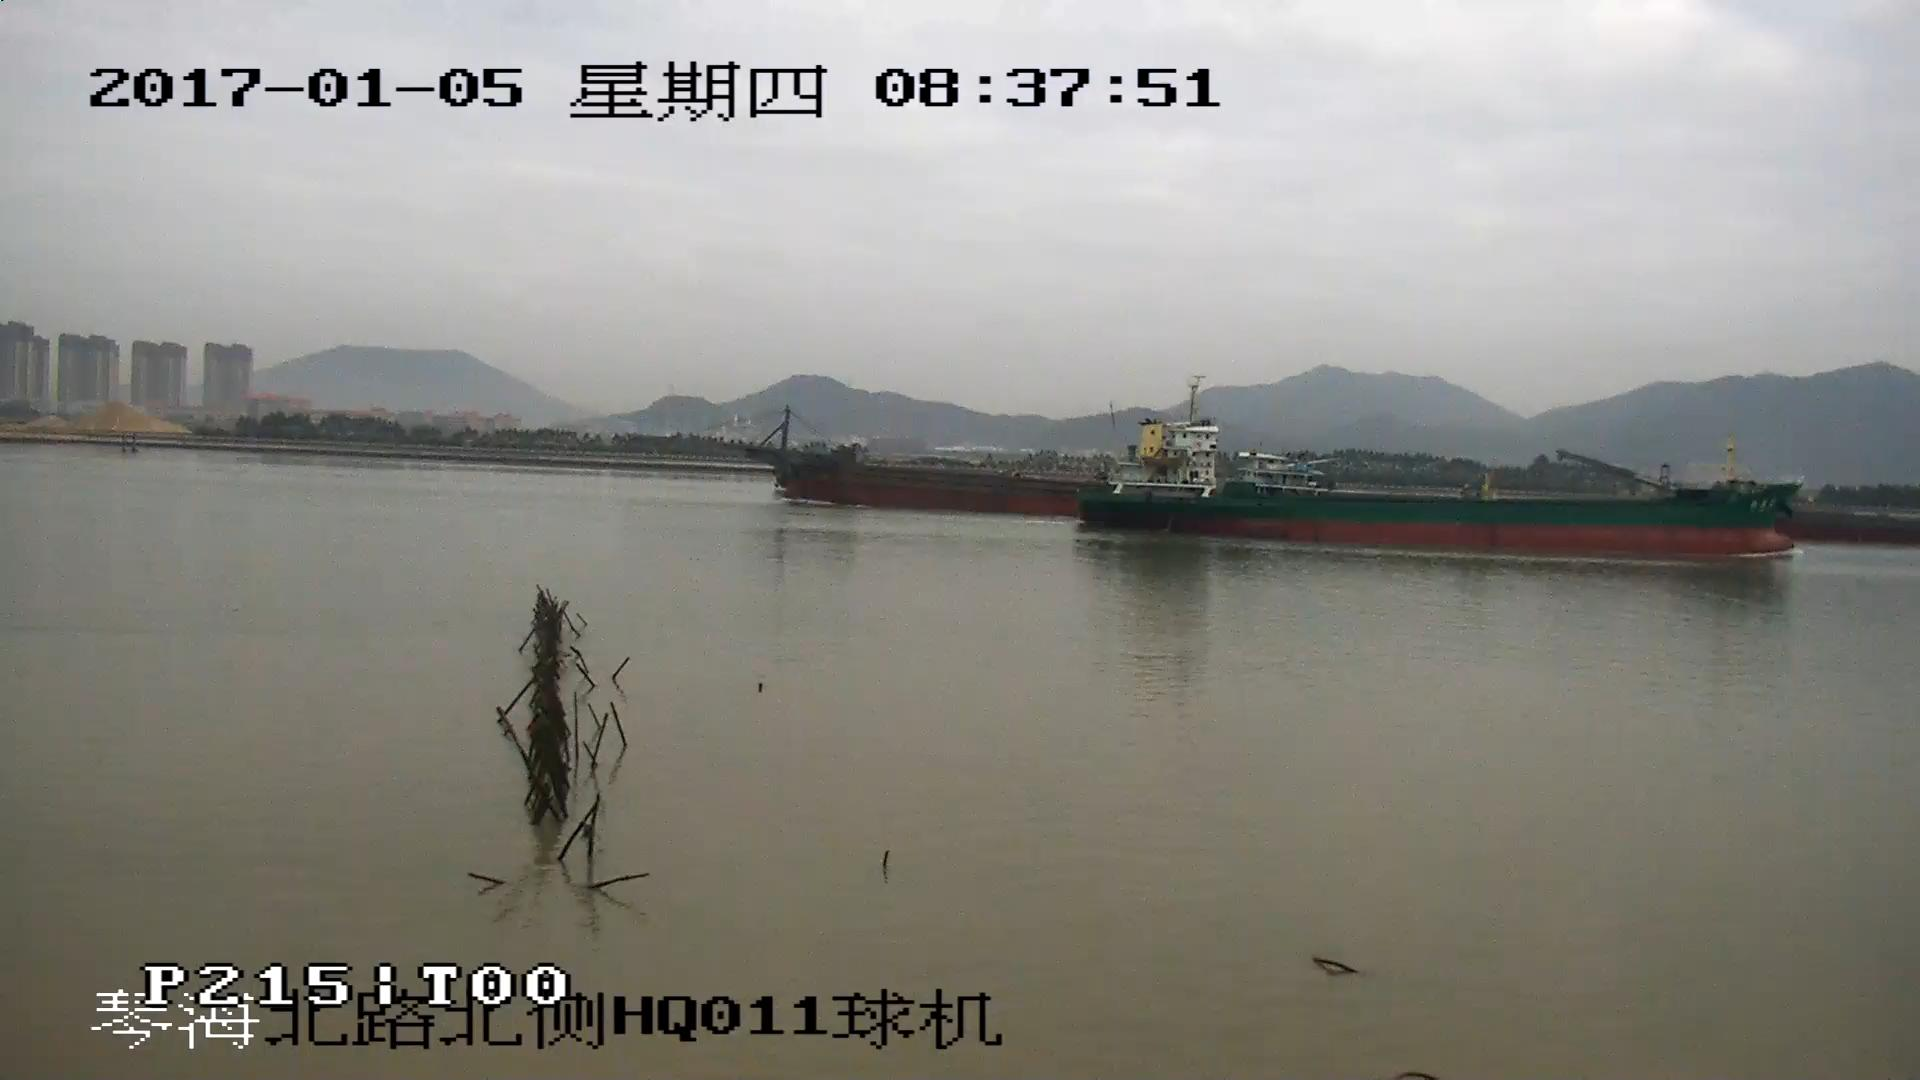bulk cargo carrier: (719, 414, 1074, 518)
general cargo ship: (1074, 386, 1806, 559)
